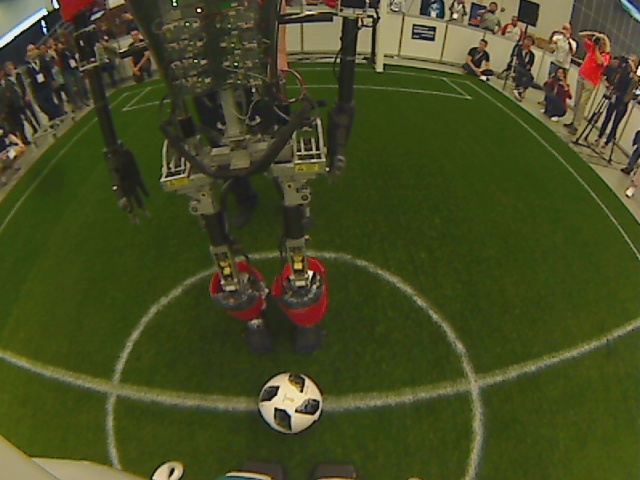ball: (258, 371, 324, 435)
goalpost: (291, 1, 389, 75)
robot: (60, 1, 365, 353)
